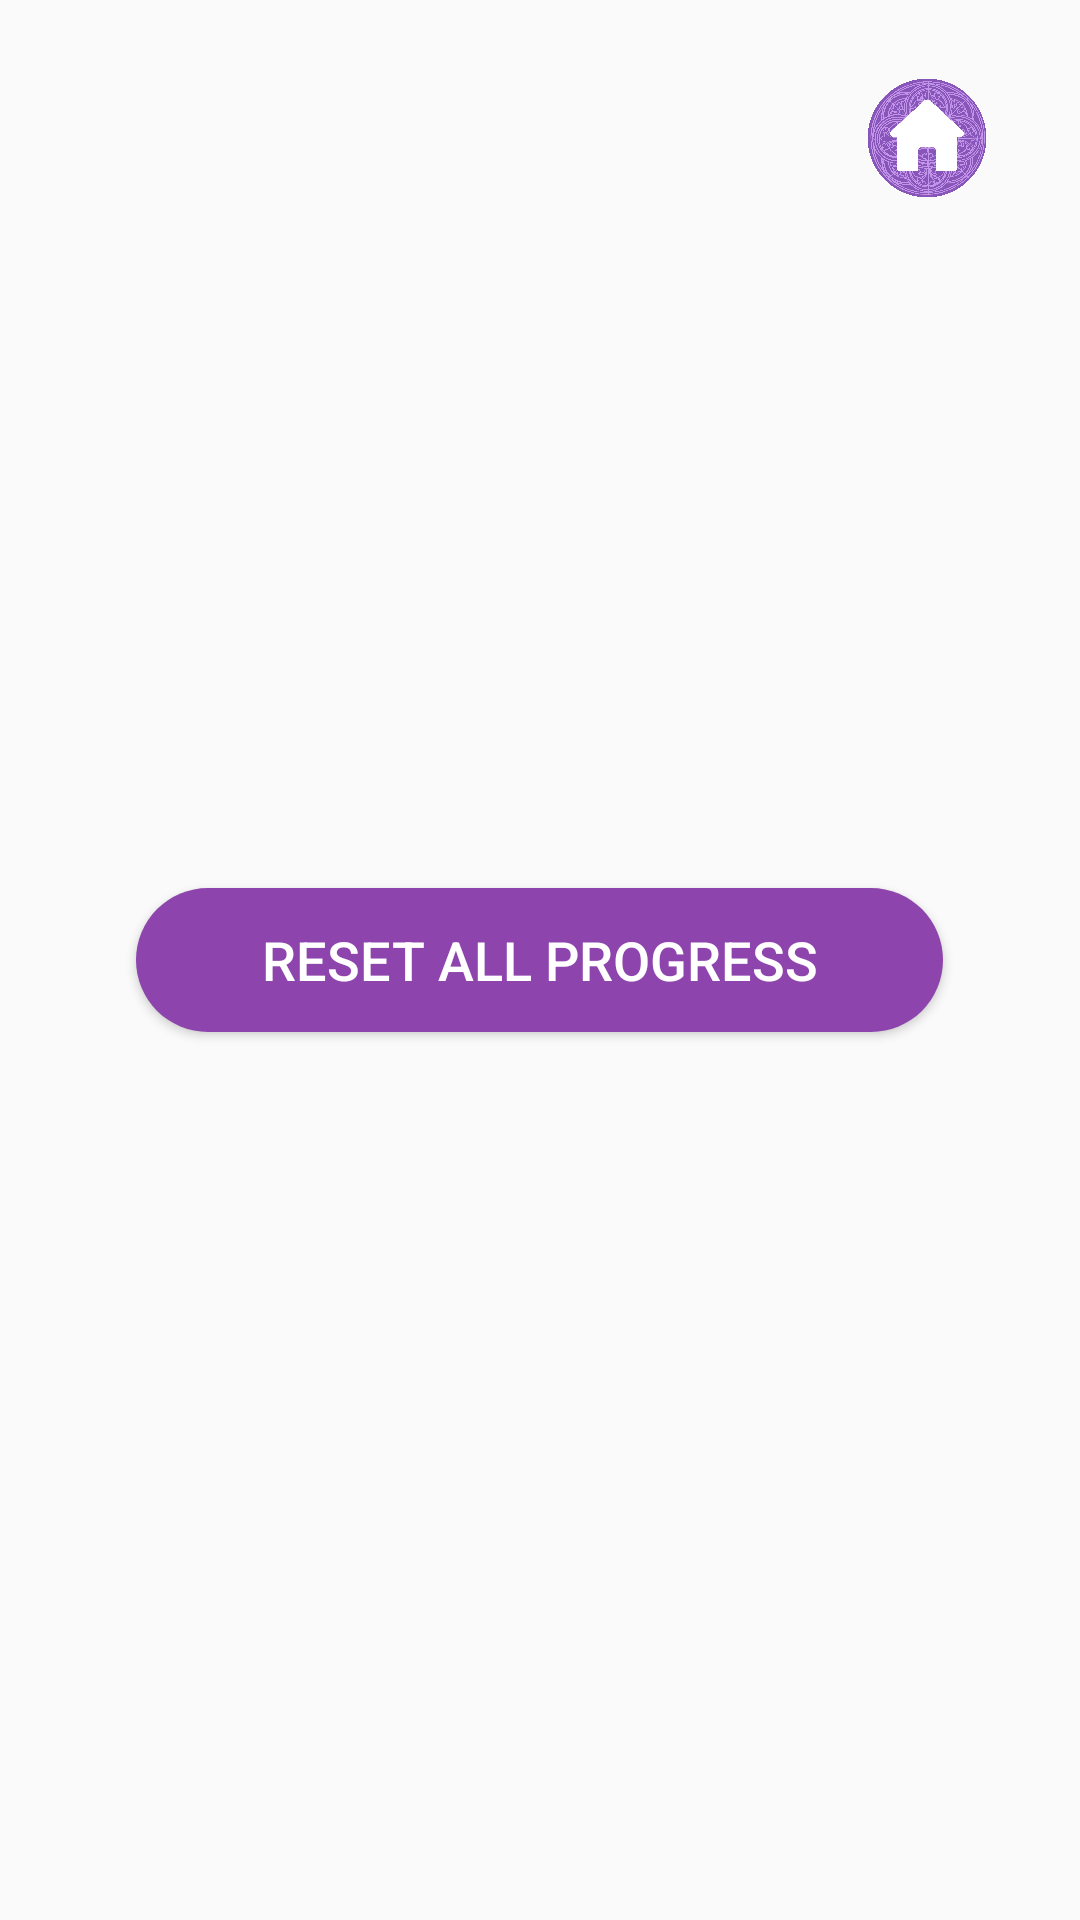

Named icons in this screenshot (1080×1920) and their centers, [x,y]:
Back to Main Menu: [927,138]
